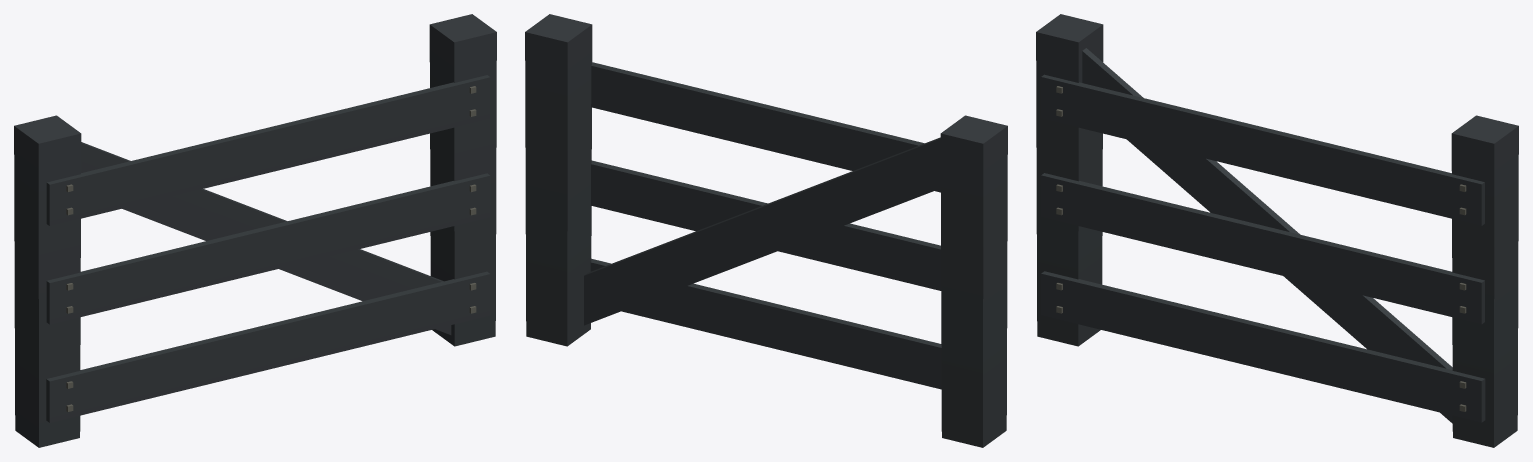
File: Arch_08.fbx
The picture shows the model from 3 angles, left to right: view 1: azimuth 30°, elevation 25°; view 2: azimuth 150°, elevation 25°; view 3: azimuth 330°, elevation 25°; orthographic projection.
Visible parts, largest first — view 1: Arch_08; view 2: Arch_08; view 3: Arch_08.
Boxes of the visible parts, bbox=[...] form: Arch_08: bbox=[14, 14, 496, 447]; Arch_08: bbox=[525, 14, 1007, 447]; Arch_08: bbox=[1036, 14, 1518, 447].
Size of the model in its own units: 1.73 by 1.1 by 0.1903.
